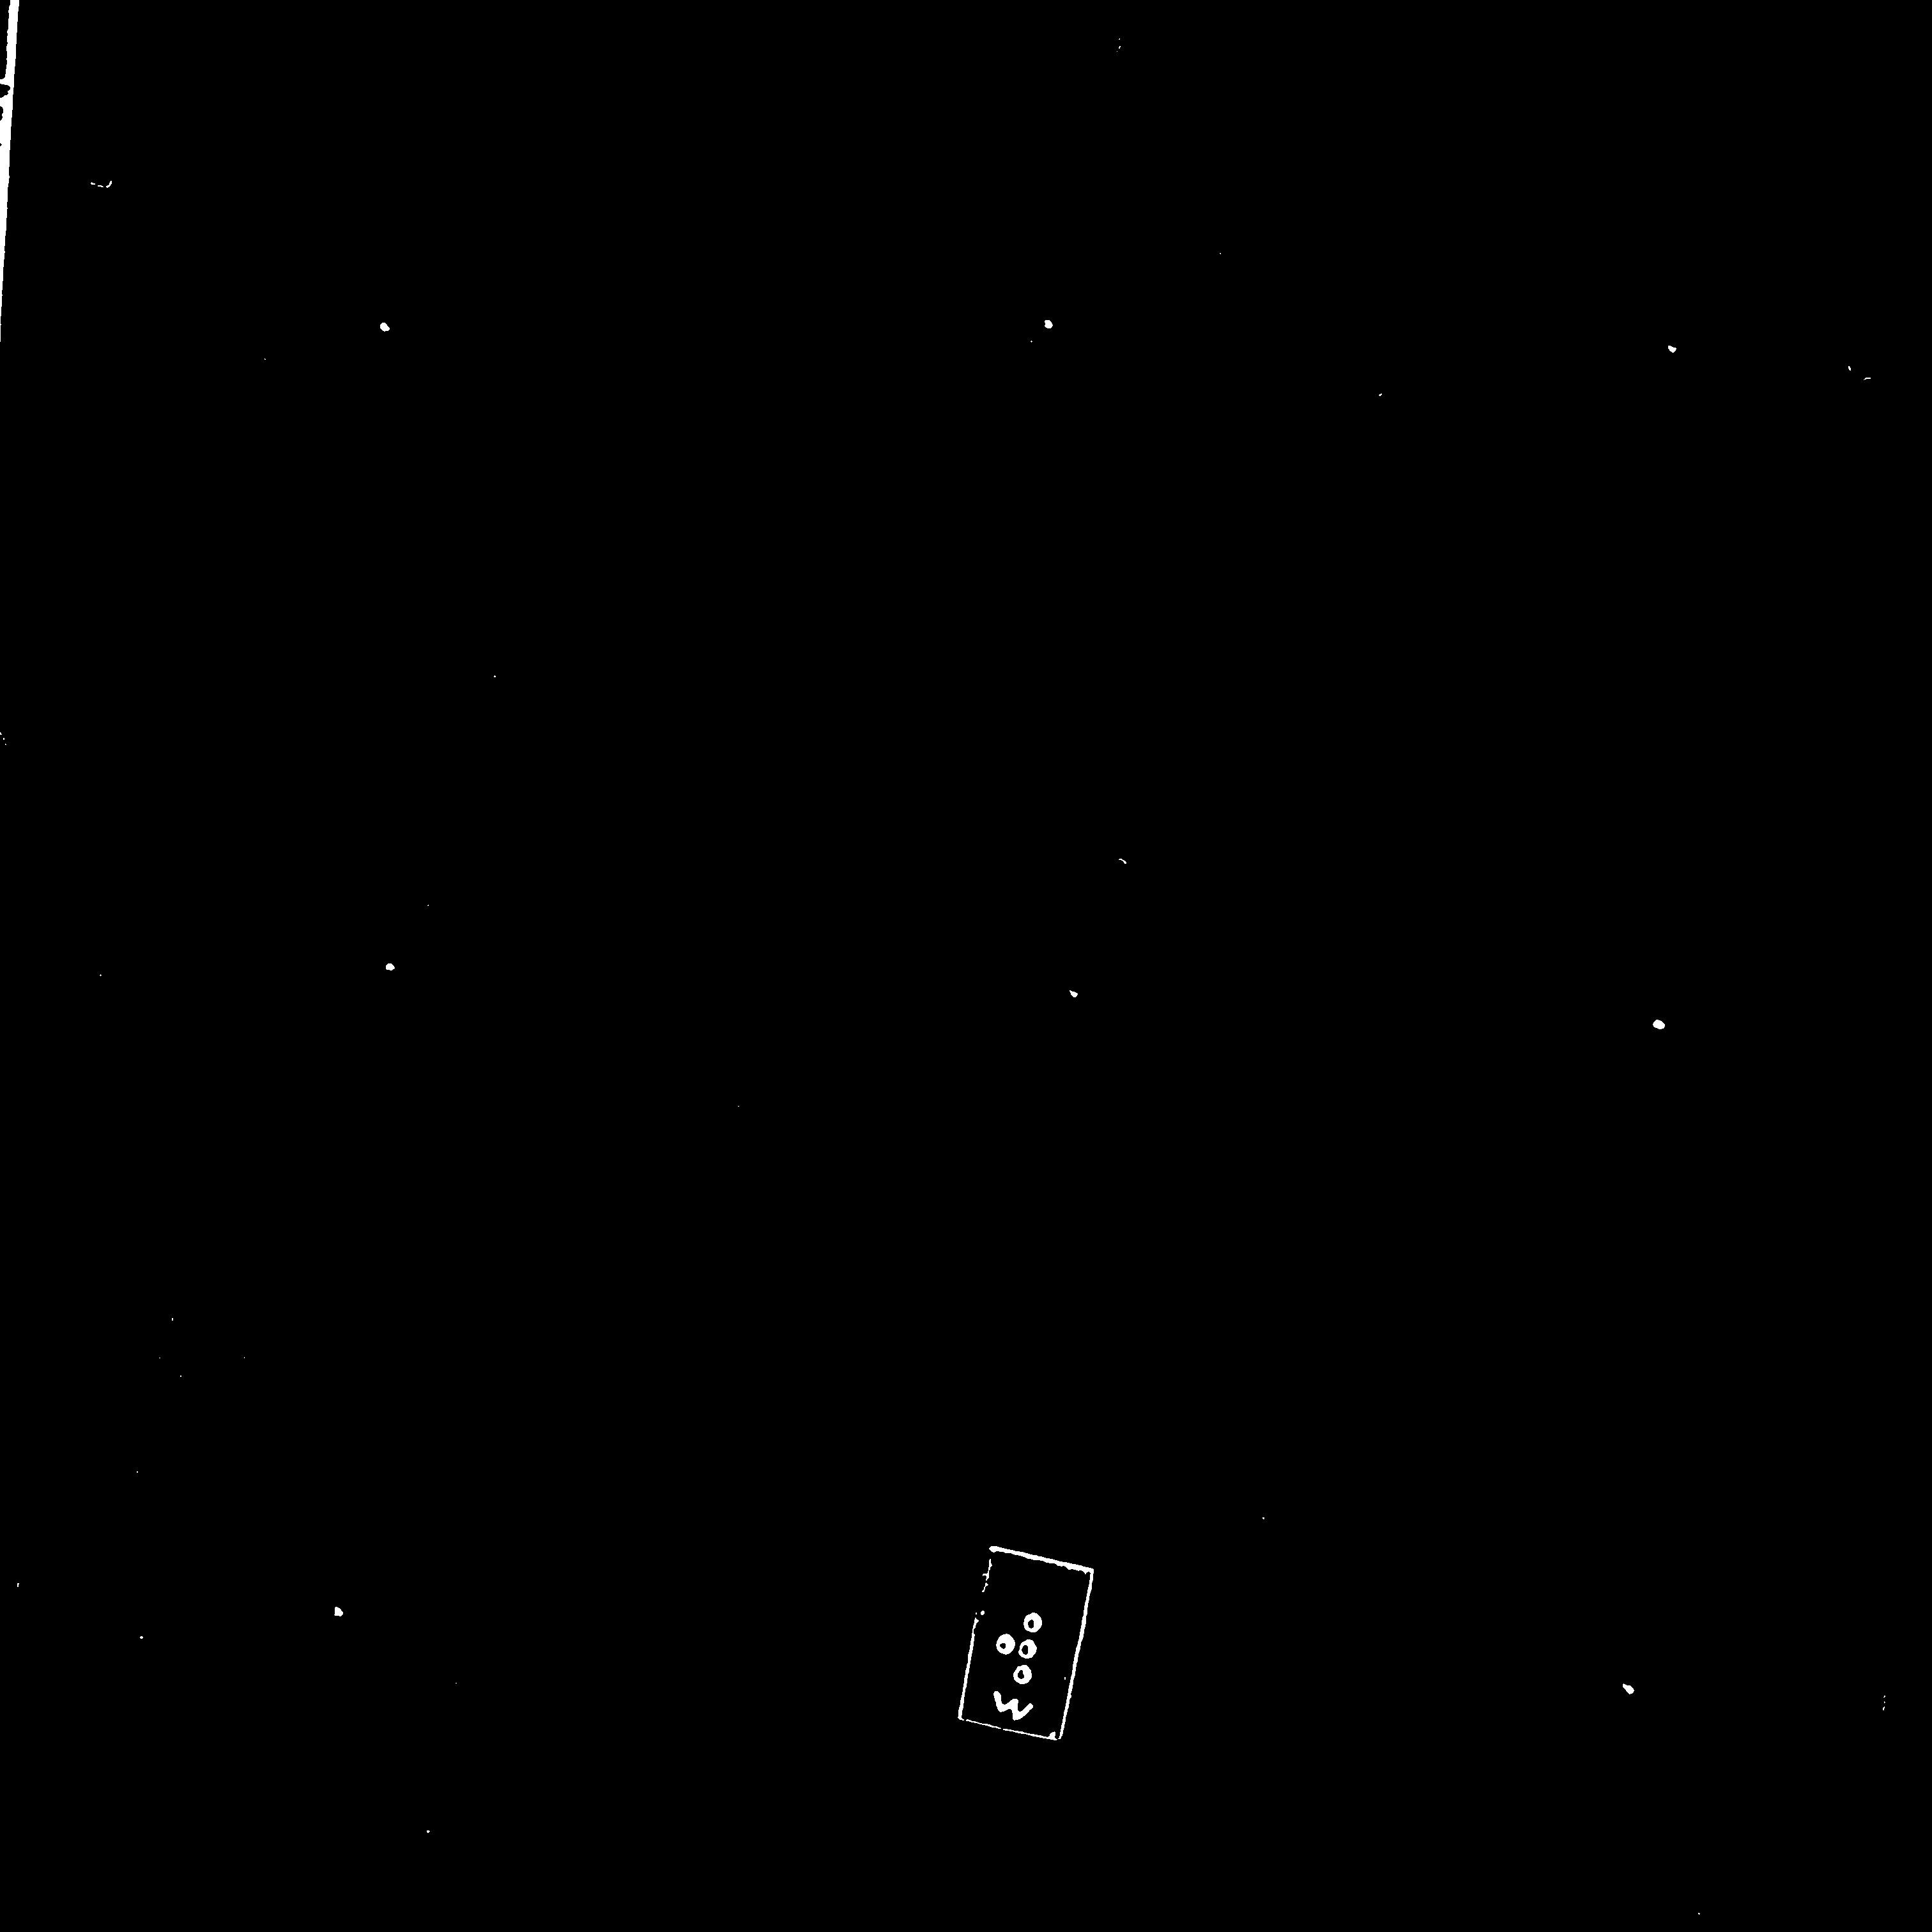w: (994, 1597, 1058, 1692)
